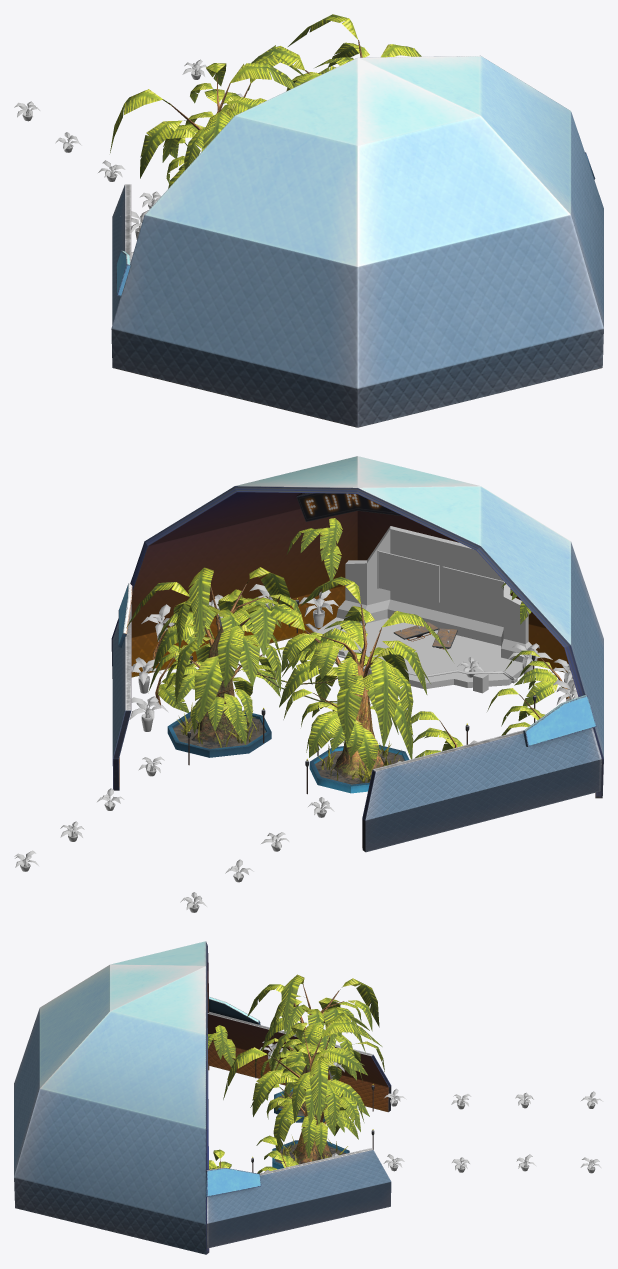
Rendered from FundraiserJungleStage.fbx.
The picture shows the model from 3 angles, top to bottom: view 1: azimuth 30°, elevation 25°; view 2: azimuth 150°, elevation 25°; view 3: azimuth 270°, elevation 25°; orthographic projection. The views are drawn at different scales.
Parts seen in each view (by area): view 1: Dome, Foliage, Stage; view 2: Dome, Foliage, Stage; view 3: Dome, Foliage, Stage.
Boxes of the visible parts, box(x1,y1,x2,y2) form: Dome: box(111, 55, 603, 427); Foliage: box(110, 14, 421, 188); Stage: box(14, 59, 243, 258); Dome: box(111, 456, 603, 852); Foliage: box(126, 518, 569, 793); Stage: box(14, 526, 578, 912); Dome: box(14, 941, 391, 1254); Foliage: box(208, 974, 384, 1173); Stage: box(259, 1041, 603, 1173).
Bounding box in the file's own units: 3162 × 1538 × 4205.
